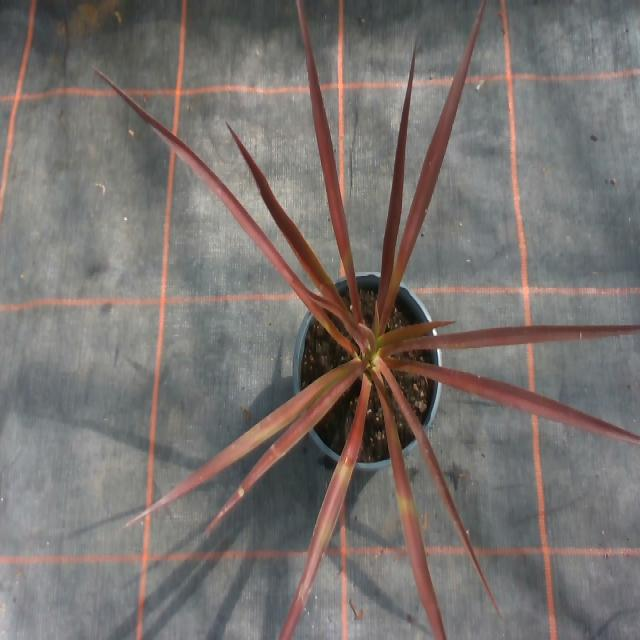Yucca-aloifolia: (96, 69, 337, 336), (127, 359, 363, 525), (383, 0, 486, 319), (378, 357, 499, 612), (211, 364, 363, 524), (279, 377, 370, 639), (388, 360, 639, 444), (374, 372, 445, 639), (230, 128, 337, 300), (297, 0, 355, 292), (382, 47, 414, 301), (380, 325, 639, 356)
